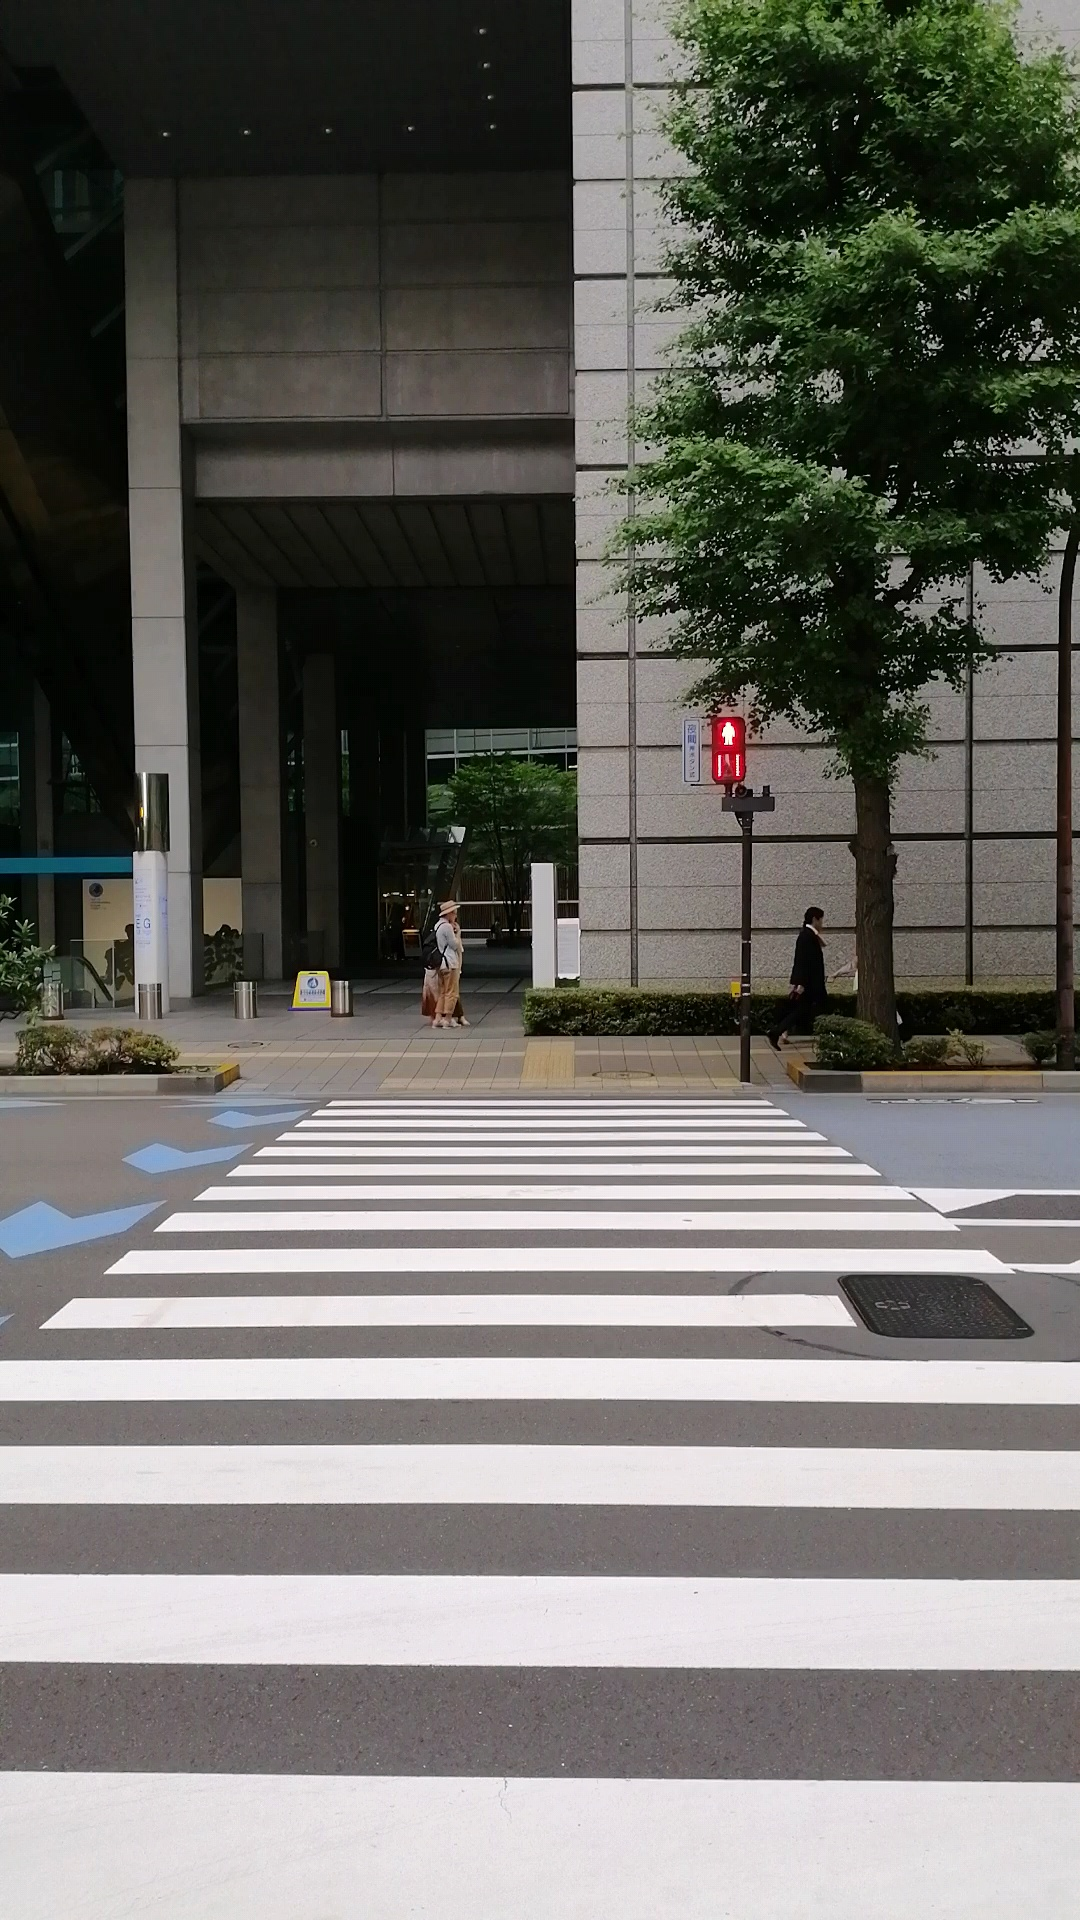red: (711, 715, 745, 785)
